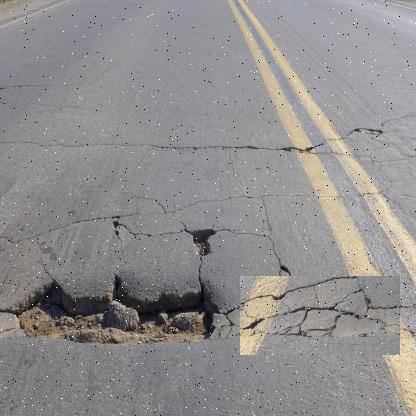crack: (239, 276, 400, 356)
pothole: (6, 258, 237, 364), (172, 215, 233, 270)
